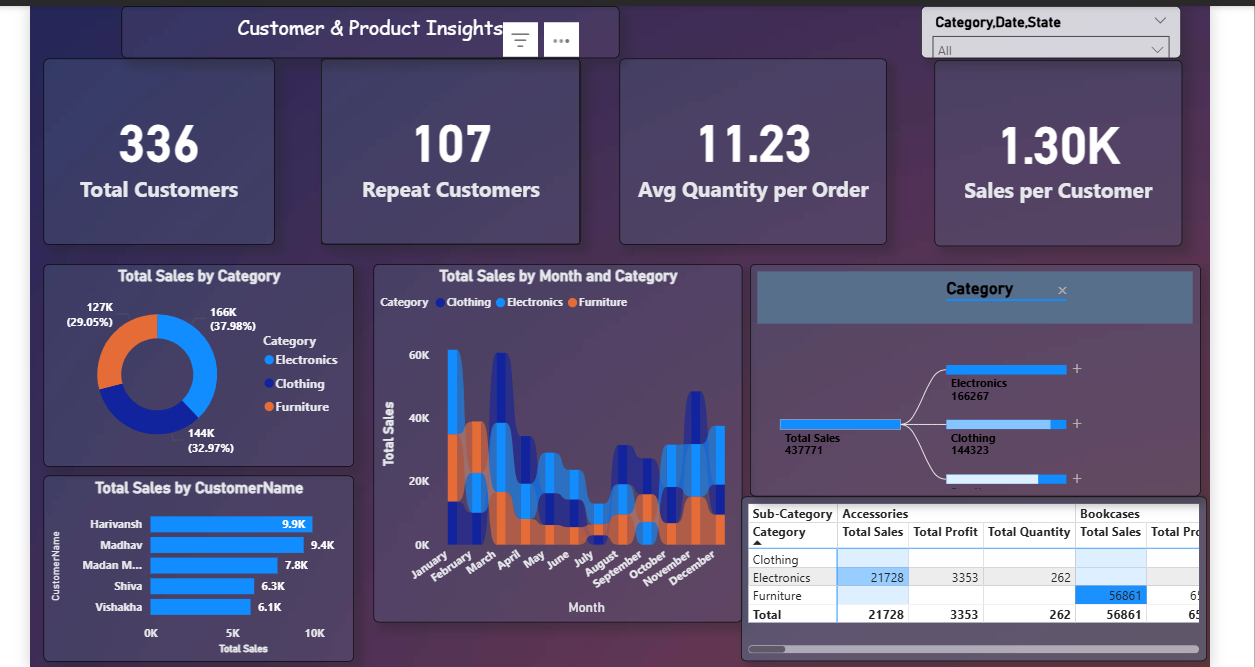

What the dashboard file says about the page in this screenshot:
{"tool":"powerbi","page":{"name":"Customer & Product Insights","canvas":[1280,720],"ordinal":2},"visuals":[{"type":"card","fields":{"Values":["Orders.Total Customers"]},"box":[14.6,56.9,250.5,201.7],"z":0},{"type":"card","fields":{"Values":["Orders.Repeat Customers"]},"box":[315,56.7,281.7,201.7],"z":1000},{"type":"card","fields":{"Values":["Orders.Avg Quantity per Order"]},"box":[640,56.7,290,201.7],"z":2000},{"type":"card","fields":{"Values":["Orders.Sales per Customer"]},"box":[980,58.3,268.3,201.7],"z":3000},{"type":"donutChart","fields":{"Category":["Details.Category"],"Y":["Details.Total Sales"]},"box":[15,280,336.7,220],"z":4000},{"type":"ribbonChart","fields":{"Category":["Orders.Order Date.Variation.Date Hierarchy.Month"],"Series":["Details.Category"],"Y":["Details.Total Sales"]},"box":[371.7,280,400,388.3],"z":5000},{"type":"barChart","fields":{"Category":["Orders.CustomerName"],"Y":["Details.Total Sales"]},"box":[15,508.3,336.7,201.7],"z":6000},{"type":"pivotTable","fields":{"Rows":["Details.Category"],"Columns":["Details.Sub-Category"],"Values":["Details.Total Sales","Details.Total Profit","Details.Total Quantity"]},"box":[771.7,531.7,505,178.3],"z":7000},{"type":"decompositionTreeVisual","fields":{"Analyze":["Details.Total Sales"],"ExplainBy":["Details.Category","Details.PaymentMode","Details.Sub-Category","Orders.City"]},"box":[780,280,488.3,251.7],"z":8000},{"type":"slicer","fields":{"Values":["Orders.Order Date.Variation.Date Hierarchy.Year","Orders.Order Date.Variation.Date Hierarchy.Month","Details.Category","Orders.CustomerName"]},"box":[966.7,0,281.7,56.7],"z":9000},{"type":"textbox","box":[100,0,540,56.7],"z":10000}]}

Visuals, with their boxes on the page's 1280x720 design canvas (x1, y1, x2, y2). These are canvas units, not pixel positions in the 1255x667 screenshot, which may show the page scaled, cropped or inside an application window:
card - Orders.Total Customers: [x1=15, y1=57, x2=265, y2=259]
card - Orders.Repeat Customers: [x1=315, y1=57, x2=597, y2=258]
card - Orders.Avg Quantity per Order: [x1=640, y1=57, x2=930, y2=258]
card - Orders.Sales per Customer: [x1=980, y1=58, x2=1248, y2=260]
donutChart - Details.Category x Details.Total Sales: [x1=15, y1=280, x2=352, y2=500]
ribbonChart - Orders.Order Date.Variation.Date Hierarchy.Month x Details.Category: [x1=372, y1=280, x2=772, y2=668]
barChart - Orders.CustomerName x Details.Total Sales: [x1=15, y1=508, x2=352, y2=710]
pivotTable - Details.Category x Details.Sub-Category: [x1=772, y1=532, x2=1277, y2=710]
decompositionTreeVisual - Details.Total Sales x Details.Category: [x1=780, y1=280, x2=1268, y2=532]
slicer - Orders.Order Date.Variation.Date Hierarchy.Year x Orders.Order Date.Variation.Date Hierarchy.Month: [x1=967, y1=0, x2=1248, y2=57]
textbox: [x1=100, y1=0, x2=640, y2=57]
